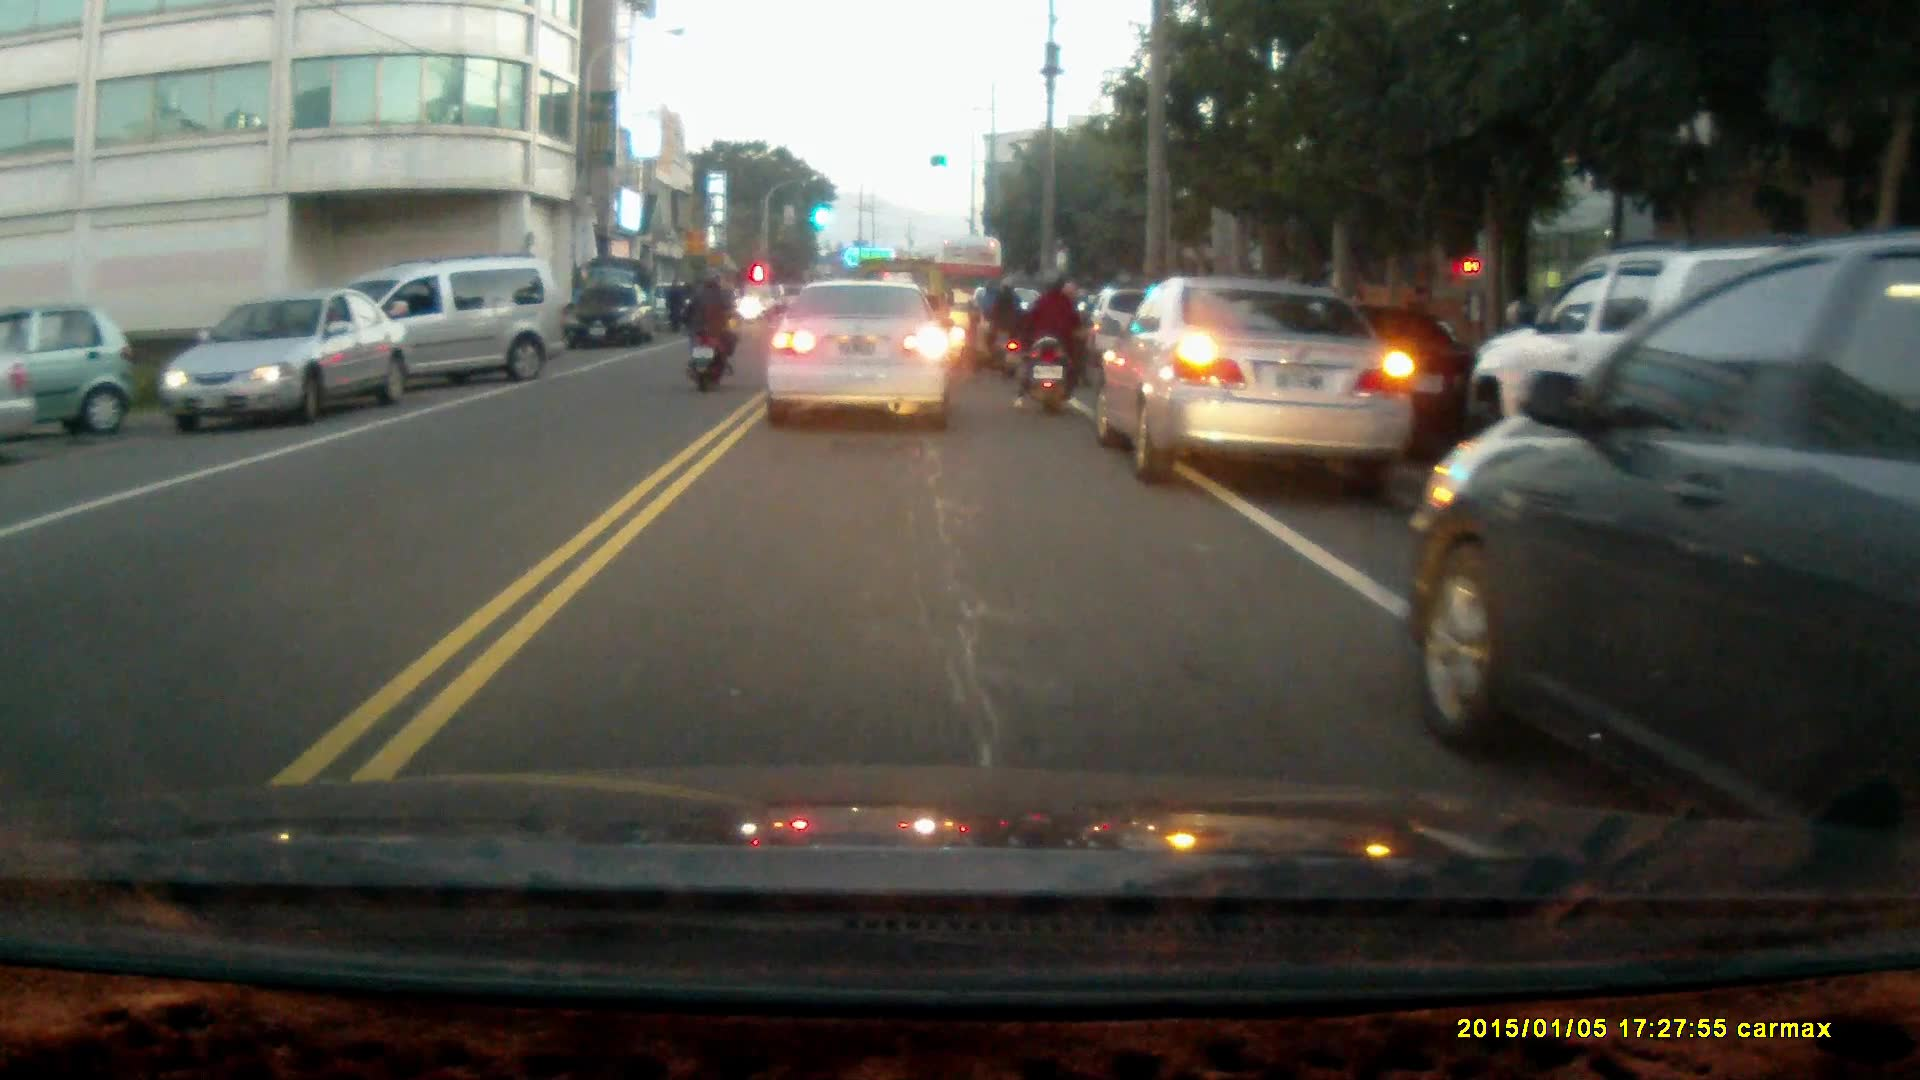pedestrian: (663, 277, 687, 338)
rider: (1013, 267, 1090, 417), (682, 272, 737, 391), (963, 271, 1023, 380)
vehicle: (1401, 240, 1920, 875), (1464, 250, 1920, 557), (1088, 272, 1415, 485), (291, 256, 565, 406), (166, 291, 409, 431), (766, 281, 952, 434), (1, 296, 137, 437), (559, 282, 657, 351), (1, 354, 46, 443)
